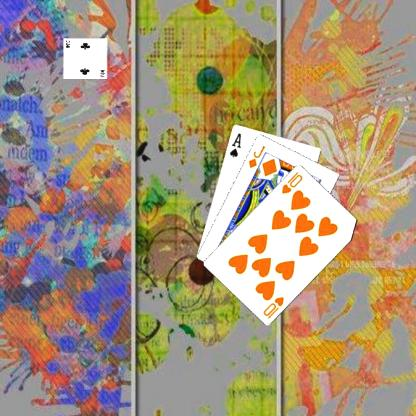10H: (279, 169, 304, 195), (260, 294, 285, 320)
AS: (226, 130, 242, 158)
JD: (246, 143, 266, 169)
